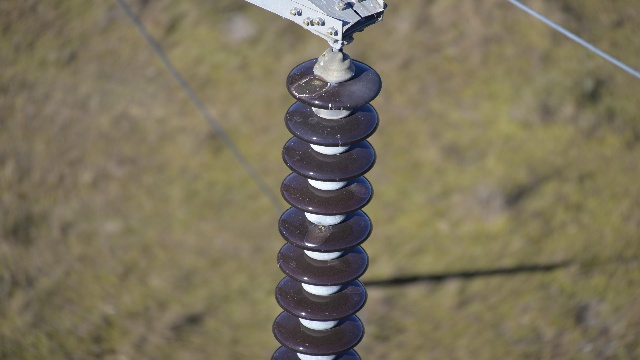insulator_unspecified: (269, 57, 381, 359)
pollution_flashover_local: (289, 72, 331, 97), (302, 227, 328, 248), (349, 177, 370, 197)
